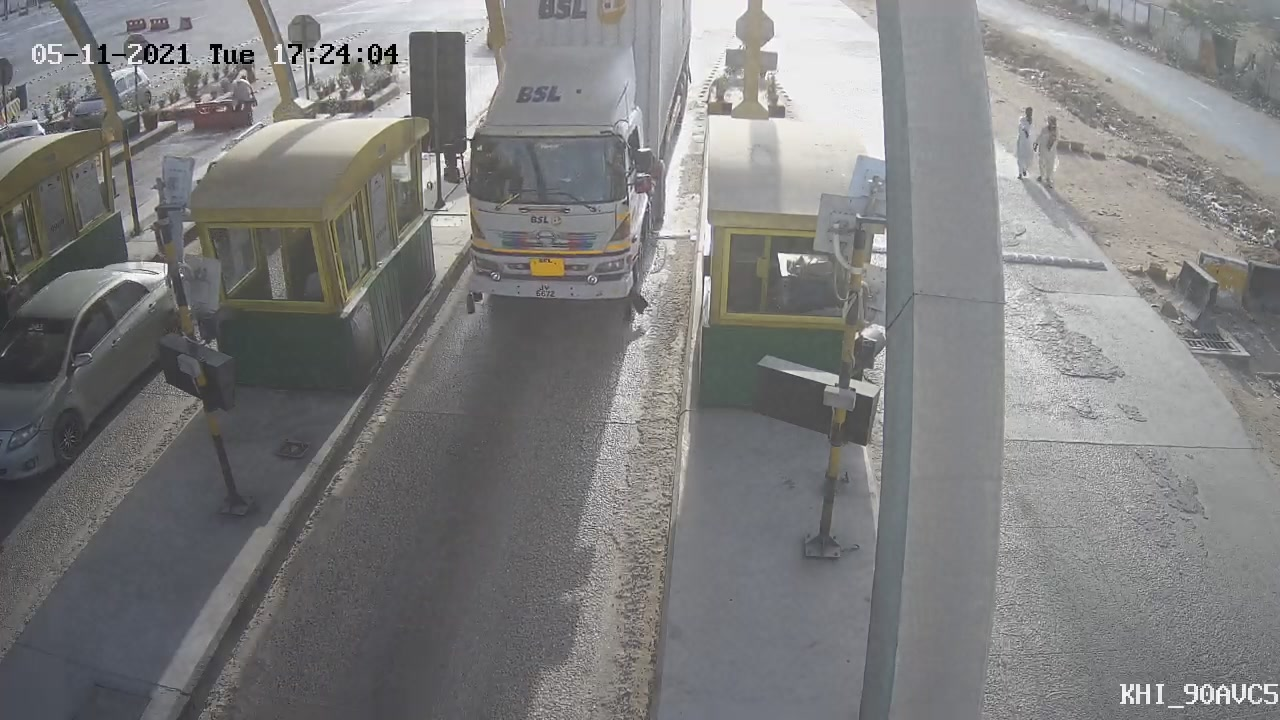F6: (429, 4, 703, 353)
